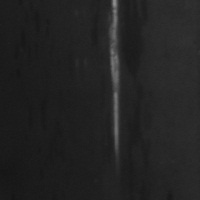scratches: (104, 1, 126, 160)
